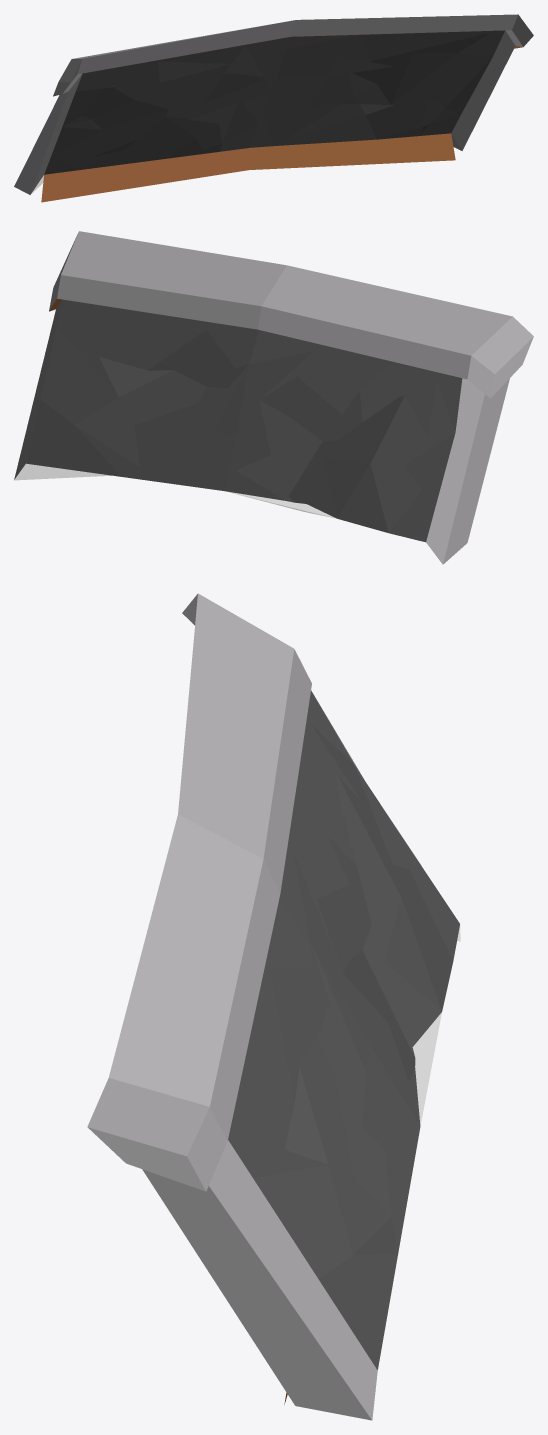
File: Scheibe.fbx
3 views of the same model, one above another, from view 1: azimuth 30°, elevation 25°; view 2: azimuth 150°, elevation 25°; view 3: azimuth 270°, elevation 25° (orthographic). The views are drawn at different scales.
Visible parts, largest first — view 1: Flieger; view 2: Flieger; view 3: Flieger.
Boxes of the visible parts, x1=… form: Flieger: x1=14, y1=14, x2=533, y2=202; Flieger: x1=14, y1=231, x2=533, y2=564; Flieger: x1=87, y1=593, x2=460, y2=1420.
Size of the model in its own units: 108 by 50.54 by 39.74.
